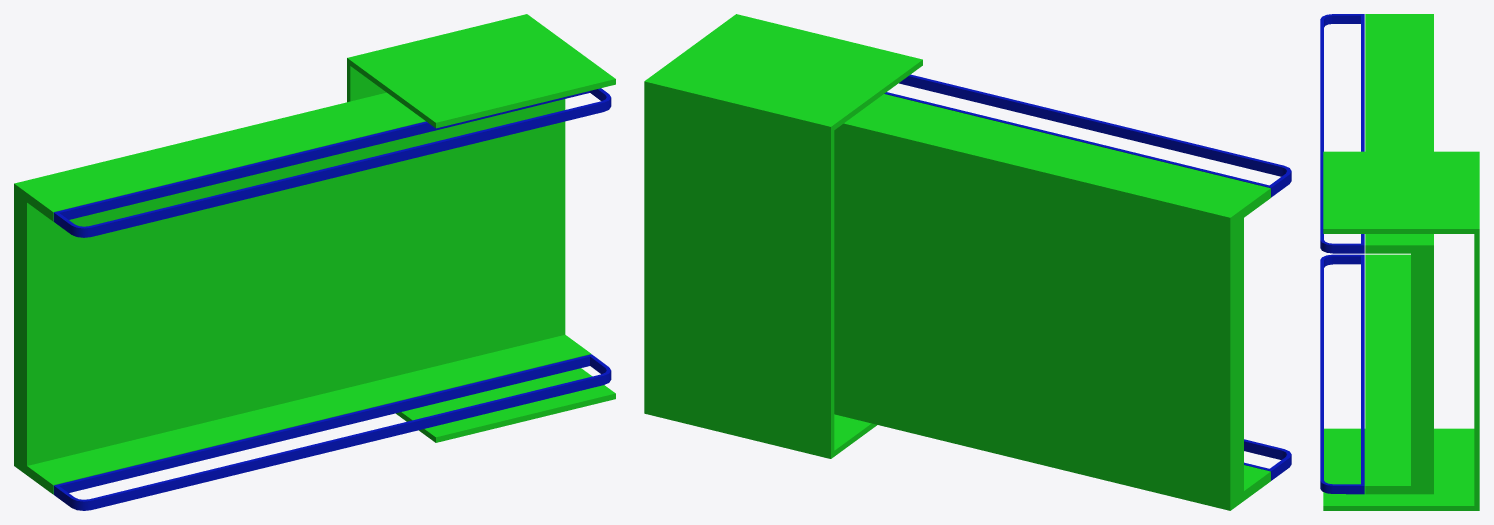
Rendered from coffee_table_3.FBX.
The picture shows the model from 3 angles, left to right: view 1: azimuth 30°, elevation 25°; view 2: azimuth 150°, elevation 25°; view 3: azimuth 270°, elevation 25°; orthographic projection. The views are drawn at different scales.
Parts seen in each view (by area): view 1: metal.003; view 2: metal.003; view 3: metal.003.
Boxes of the visible parts, x1,y1,x2,y2 form: metal.003: (14, 14, 615, 510); metal.003: (644, 14, 1291, 510); metal.003: (1320, 14, 1479, 510).
Size of the model in its own units: 120 by 68.01 by 34.85.
